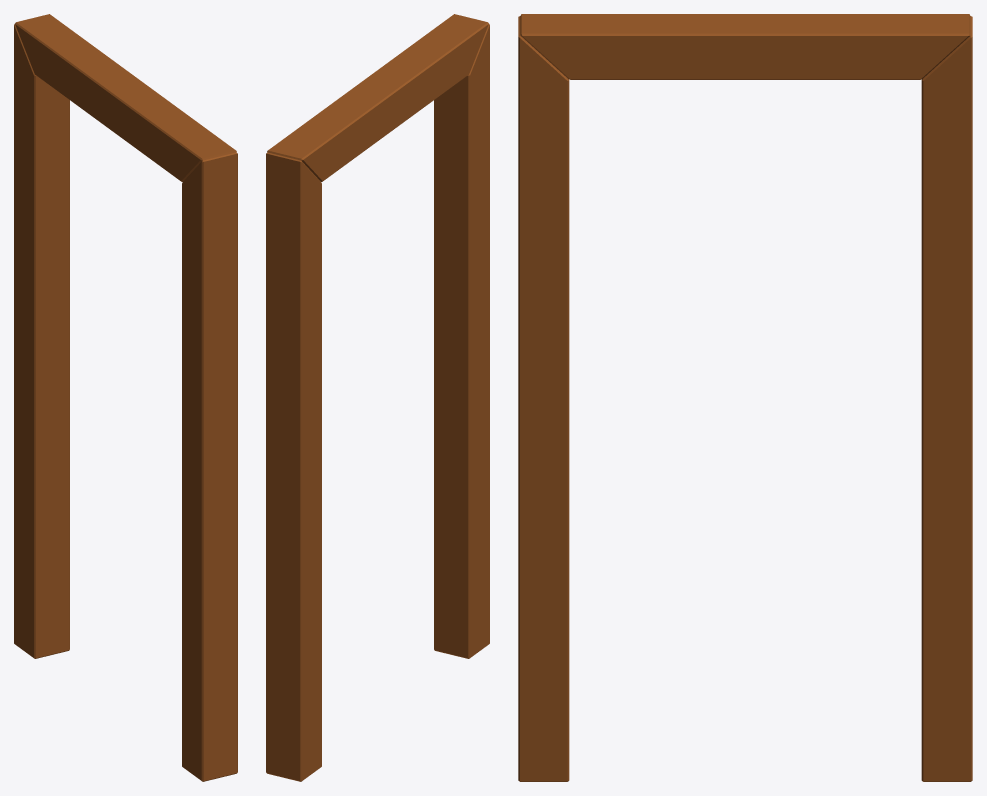
Rendered from Door_frame.fbx.
The picture shows the model from 3 angles, left to right: view 1: azimuth 30°, elevation 25°; view 2: azimuth 150°, elevation 25°; view 3: azimuth 270°, elevation 25°; orthographic projection. The views are drawn at different scales.
Parts seen in each view (by area): view 1: Door_frame; view 2: Door_frame; view 3: Door_frame.
Boxes of the visible parts, box(x1,y1,x2,y2) form: Door_frame: box(14, 14, 237, 781); Door_frame: box(266, 14, 489, 781); Door_frame: box(518, 14, 972, 781).
Size of the model in its own units: 0.1308 by 2.15 by 1.19.
